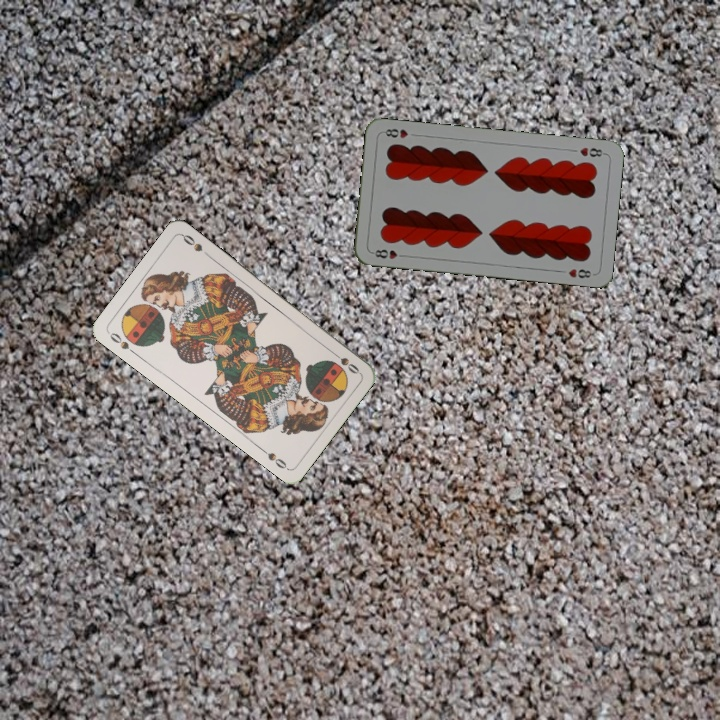H8: (368, 245, 409, 262), (576, 143, 608, 159)
SO: (327, 347, 362, 377), (105, 328, 139, 358)
